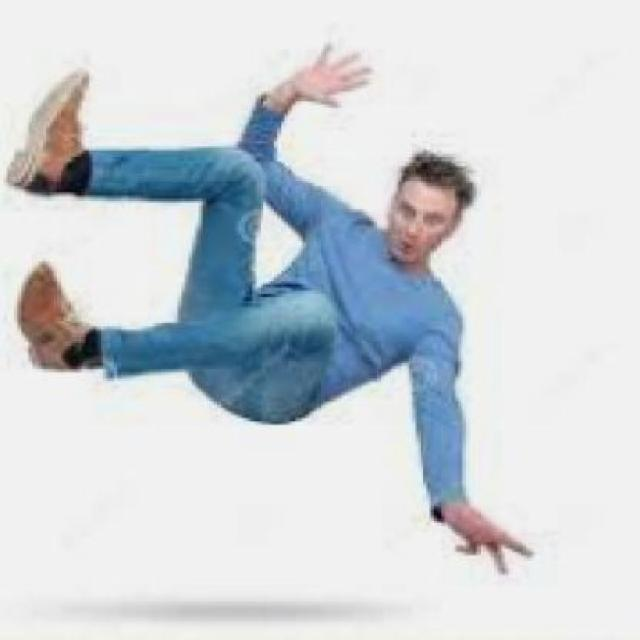fall: (9, 38, 537, 578)
